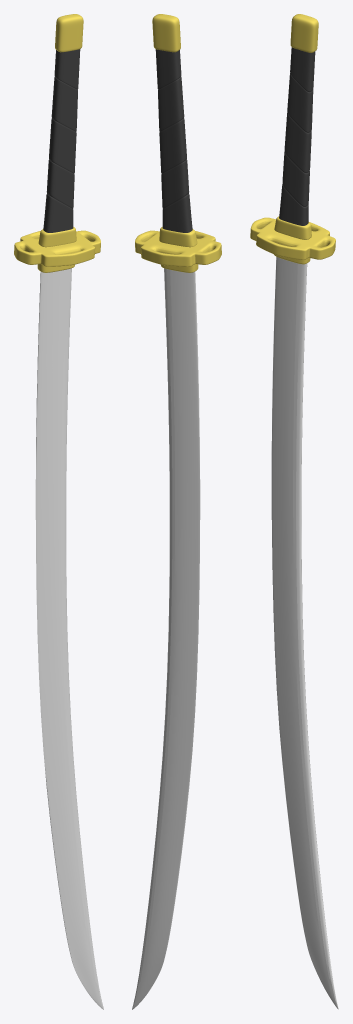
File: sword.glb
3 views of the same model, side by side, from view 1: azimuth 30°, elevation 25°; view 2: azimuth 150°, elevation 25°; view 3: azimuth 330°, elevation 25° (orthographic).
Parts seen in each view (by area): view 1: Cube.001, Cube.003, Cube.002, Cube.005, Cube.004; view 2: Cube.001, Cube.003, Cube.002, Cube.005, Cube.004; view 3: Cube.001, Cube.003, Cube.002, Cube.005, Cube.004.
Part boxes in pixels (x1,y1,x2,y2): Cube.001: (35,268,103,1009); Cube.003: (43,49,80,232); Cube.002: (14,230,100,266); Cube.005: (55,14,83,52); Cube.004: (38,227,76,247); Cube.001: (132,268,200,1009); Cube.003: (155,49,192,232); Cube.002: (135,230,221,266); Cube.005: (152,14,180,52); Cube.004: (159,227,197,247); Cube.001: (271,257,338,1009); Cube.003: (279,47,315,225); Cube.002: (250,217,335,259); Cube.005: (290,14,318,52); Cube.004: (274,216,311,239).
Size of the model in its own units: 1 by 11.12 by 0.6617.
